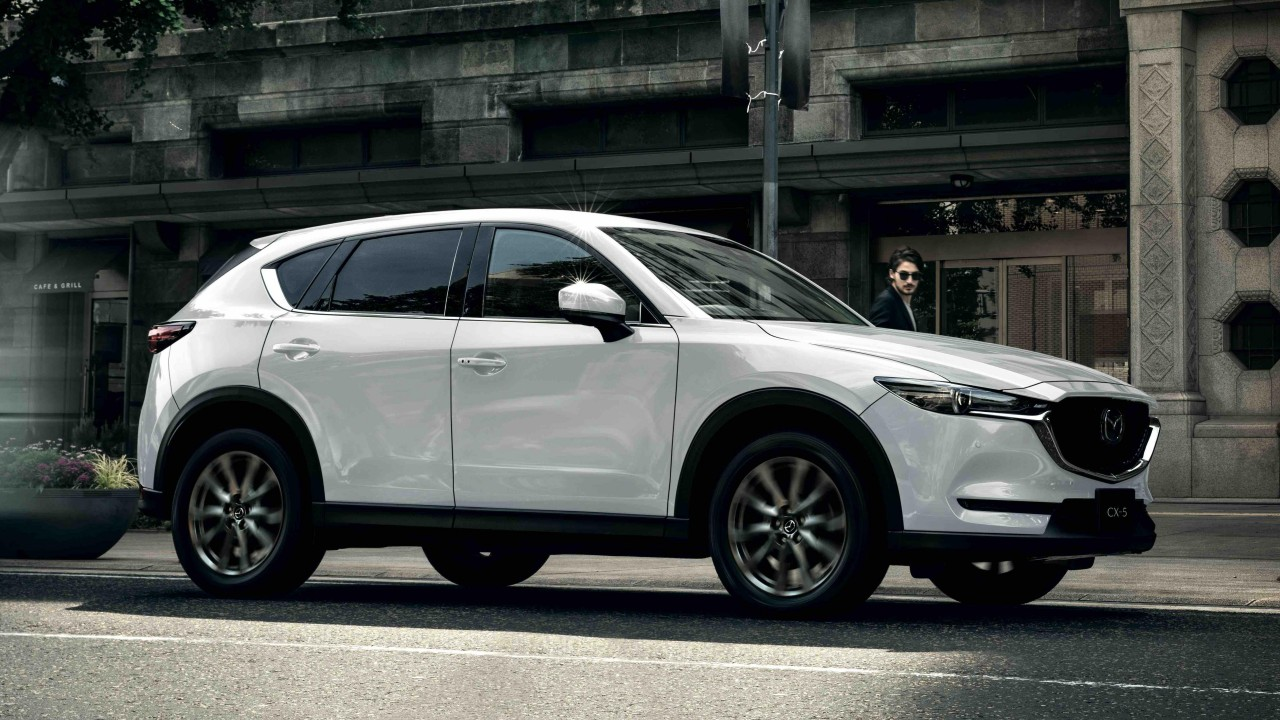pickup: (132, 206, 1161, 625)
